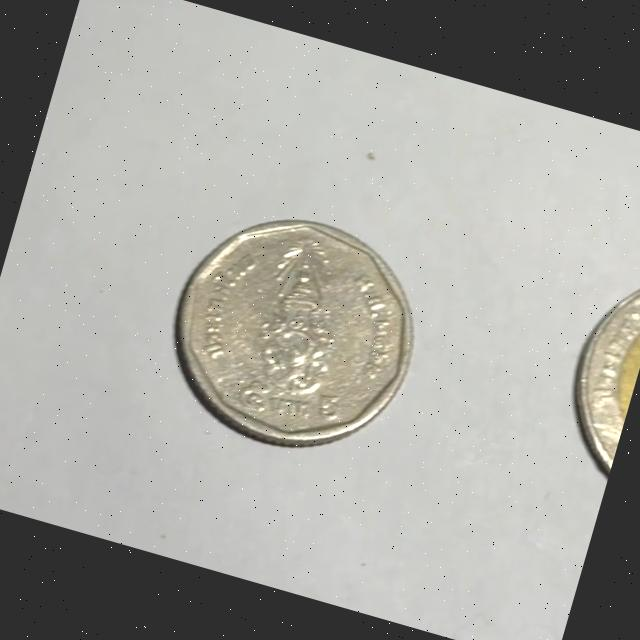10-baht: (539, 235, 640, 504)
5-baht: (119, 183, 454, 490)
